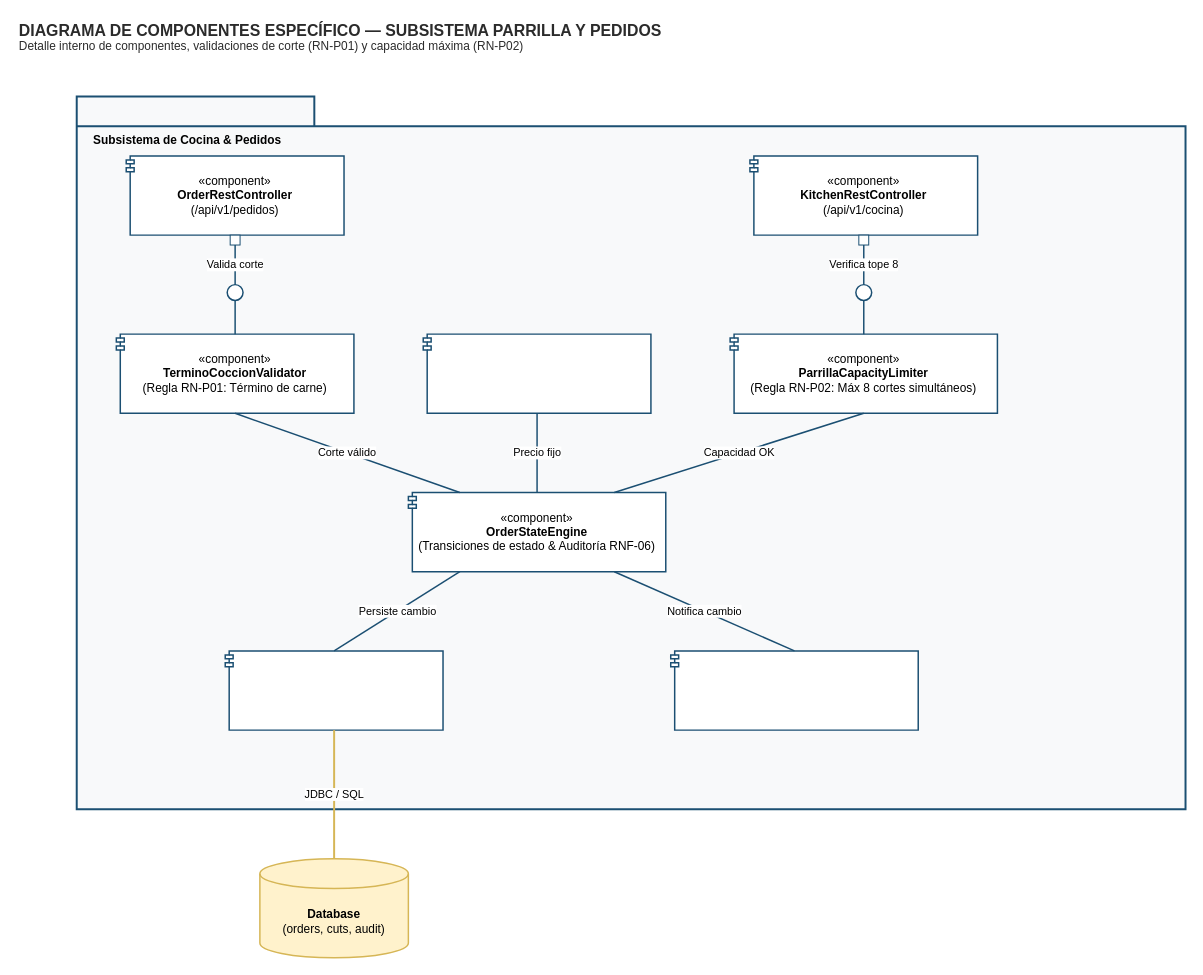
This 1203x975 diagram has some shape labels left out. The box of each missing label's shape, as (x1, y1, x2, y2) in pixels:
«component» KitchenWebSocketBroadcaster (< 2s RNF-03): (670, 650, 919, 730)
«component» OrderRepositoryDAO: (224, 650, 443, 730)
«component» PriceSnapshotManager (Regla RN-04: Precio congelado): (422, 333, 651, 414)
